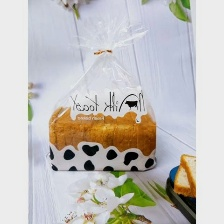snack: (41, 8, 167, 178)
